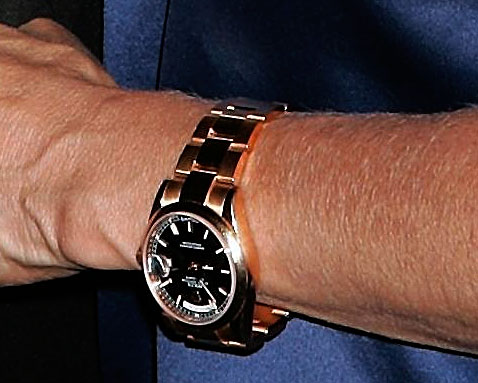clock: (151, 220, 234, 326)
